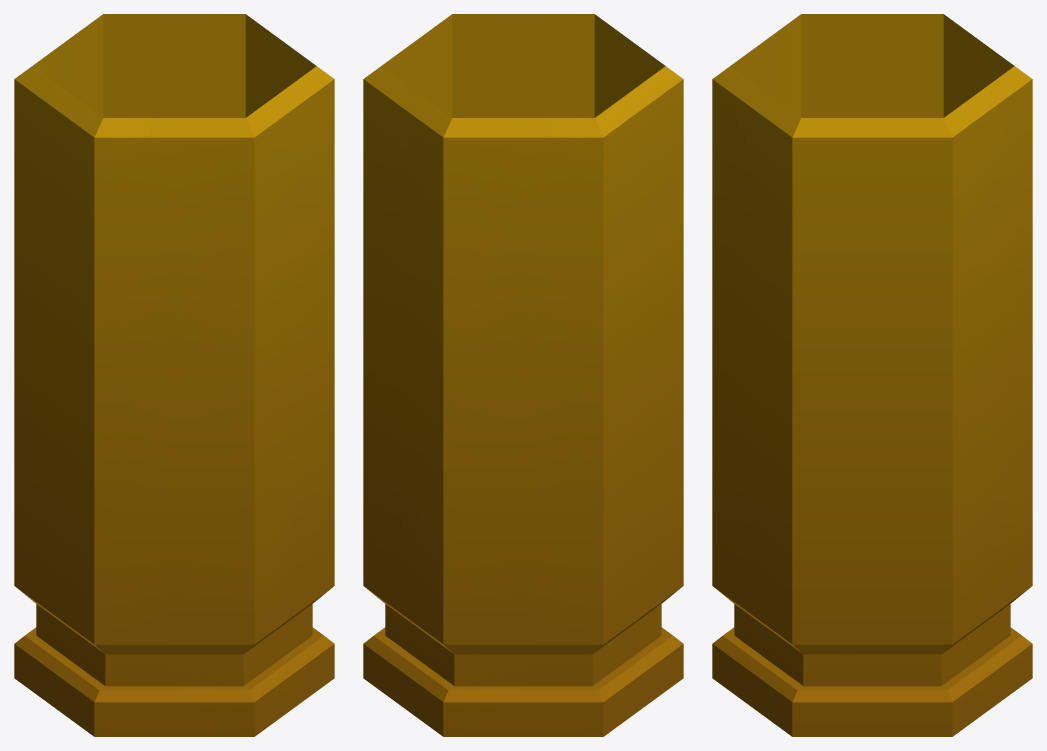
File: Bullet_9_V1_Shell.glb
The picture shows the model from 3 angles, left to right: view 1: azimuth 30°, elevation 25°; view 2: azimuth 150°, elevation 25°; view 3: azimuth 270°, elevation 25°; orthographic projection.
Visible parts, largest first — view 1: Bullet_9_V1_Shell; view 2: Bullet_9_V1_Shell; view 3: Bullet_9_V1_Shell.
Boxes of the visible parts, x1=… form: Bullet_9_V1_Shell: x1=14, y1=14, x2=334, y2=736; Bullet_9_V1_Shell: x1=363, y1=14, x2=683, y2=736; Bullet_9_V1_Shell: x1=712, y1=14, x2=1032, y2=736.
Size of the model in its own units: 0.00779 by 0.019 by 0.009.
1 material, 1 textured.
